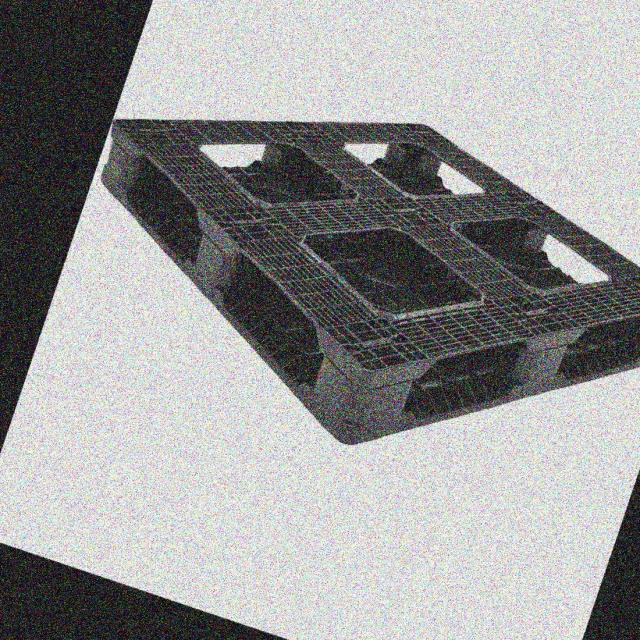non-igps: (97, 114, 640, 450)
